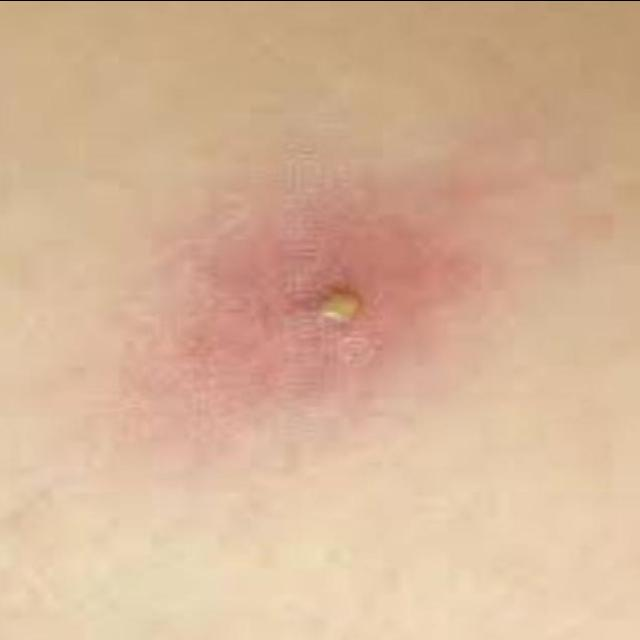pustule: (270, 248, 396, 345)
